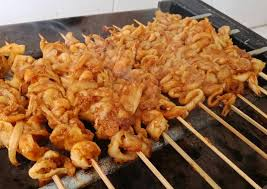sate: (1, 13, 267, 186)
